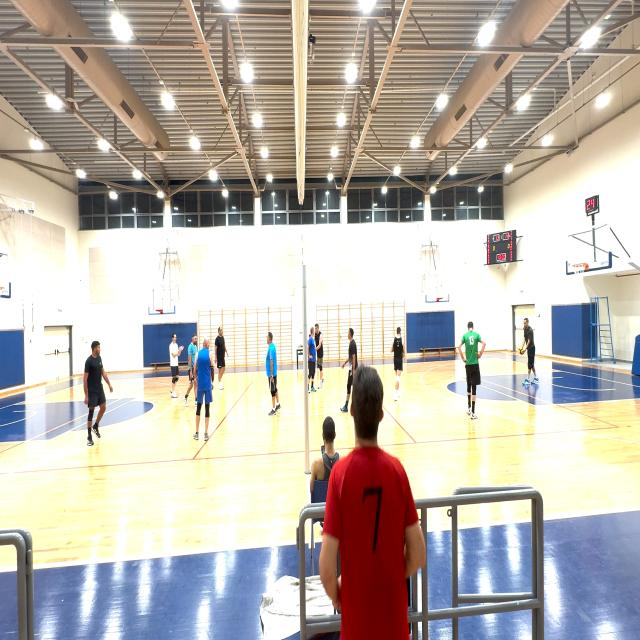volleyball: (518, 346, 524, 354)
